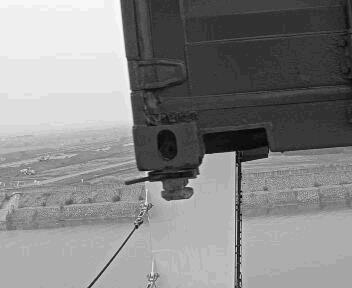twist_lock_1: (156, 163, 222, 205)
